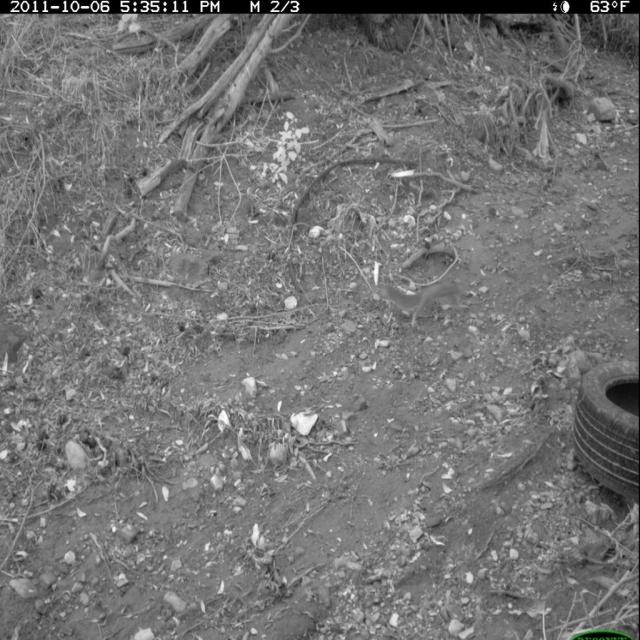squirrel: (382, 272, 486, 332)
